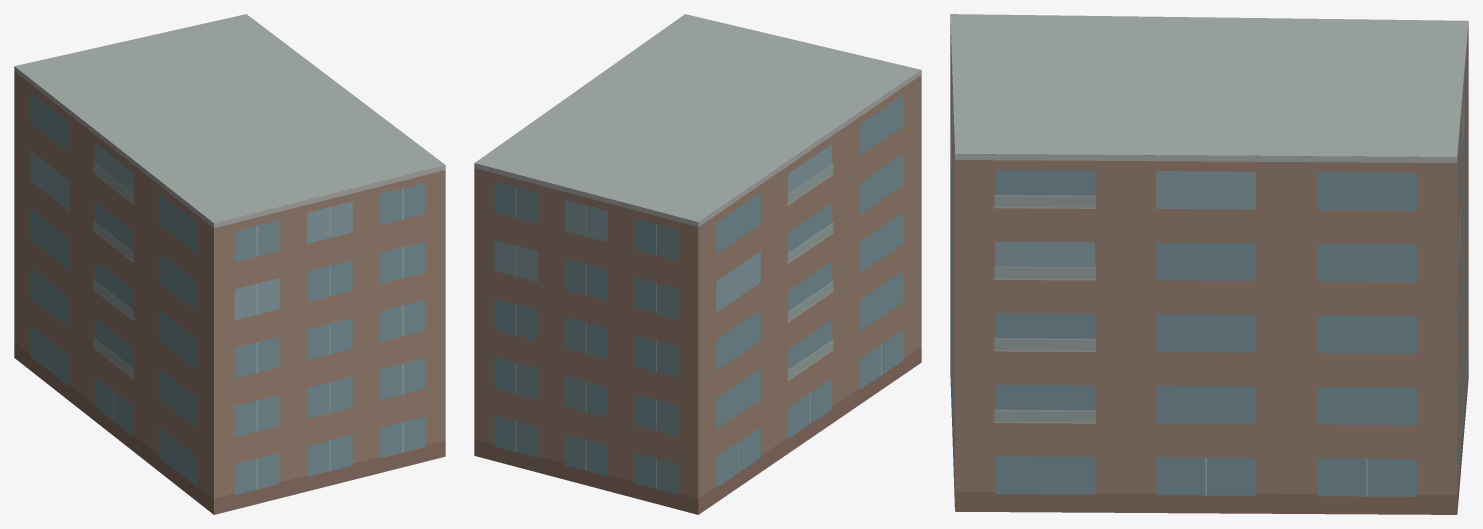
Rendered from survey-upis-33034561.glb.
The picture shows the model from 3 angles, left to right: view 1: azimuth 30°, elevation 25°; view 2: azimuth 150°, elevation 25°; view 3: azimuth 270°, elevation 25°; orthographic projection. The views are drawn at different scales.
Visible parts, largest first — view 1: survey-upis-33034561.tmp; view 2: survey-upis-33034561.tmp; view 3: survey-upis-33034561.tmp.
Part boxes in pixels (bbox=[...]): survey-upis-33034561.tmp: bbox=[14, 14, 445, 514]; survey-upis-33034561.tmp: bbox=[474, 14, 921, 514]; survey-upis-33034561.tmp: bbox=[950, 14, 1468, 514].
Bounding box in the file's own units: 12.35 × 14.4 × 18.9.
